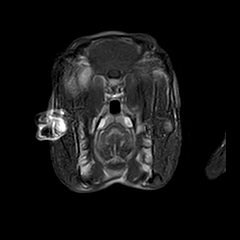Brain: (64, 8, 163, 106)
